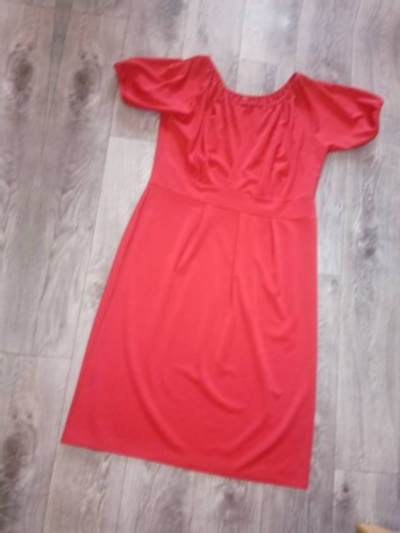Dress: (26, 17, 400, 504), (0, 0, 32, 448), (99, 0, 400, 15)
